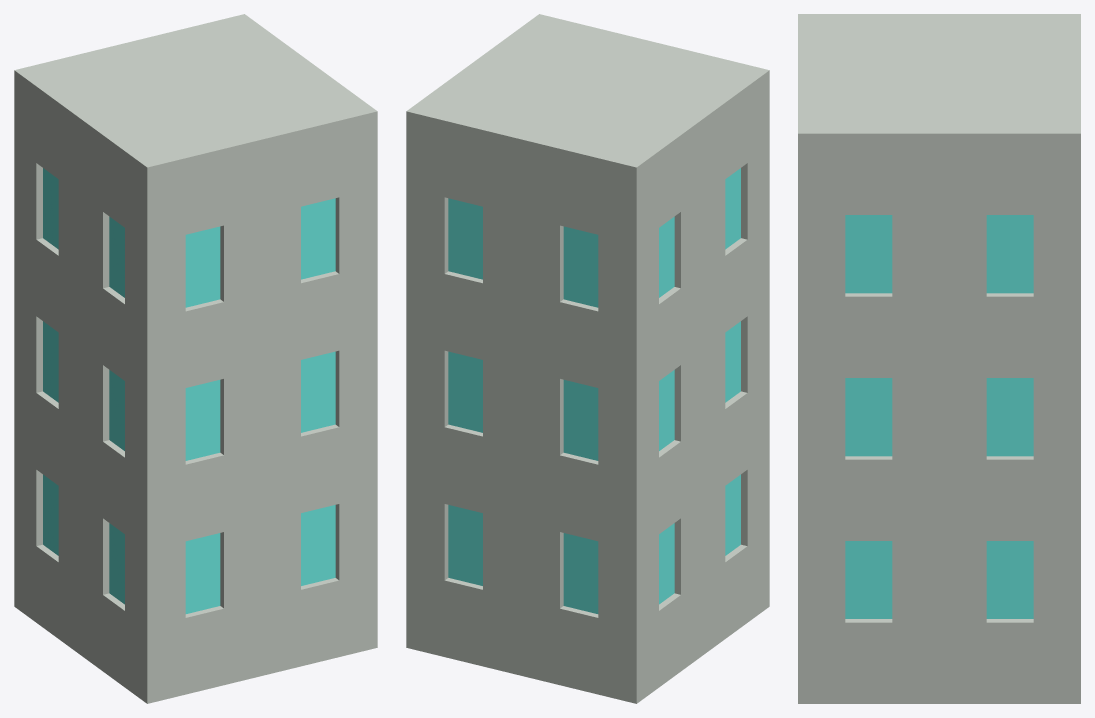
File: sky_building.fbx
3 views of the same model, side by side, from view 1: azimuth 30°, elevation 25°; view 2: azimuth 150°, elevation 25°; view 3: azimuth 270°, elevation 25° (orthographic). The views are drawn at different scales.
Visible parts, largest first — view 1: slkybio;dom; view 2: slkybio;dom; view 3: slkybio;dom.
Part boxes in pixels (bbox=[...]): slkybio;dom: bbox=[14, 14, 377, 703]; slkybio;dom: bbox=[406, 14, 769, 703]; slkybio;dom: bbox=[798, 14, 1080, 703].
Bounding box in the file's own units: 200 × 445 × 200.
